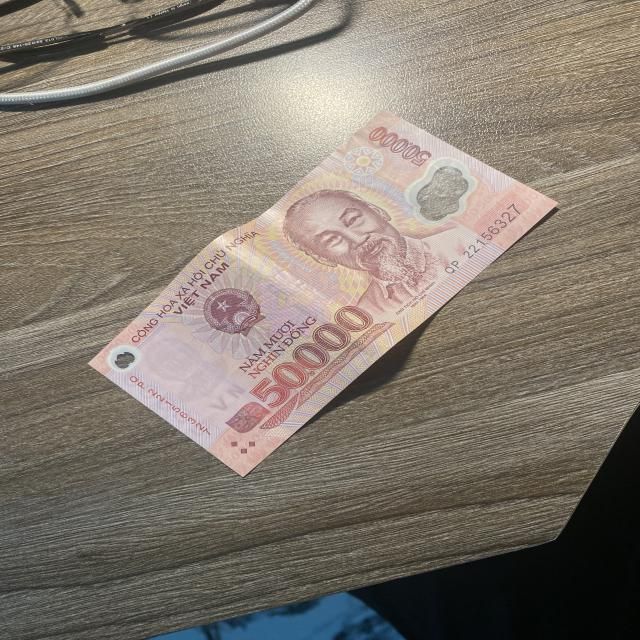50 000 VND: (83, 105, 558, 487)
